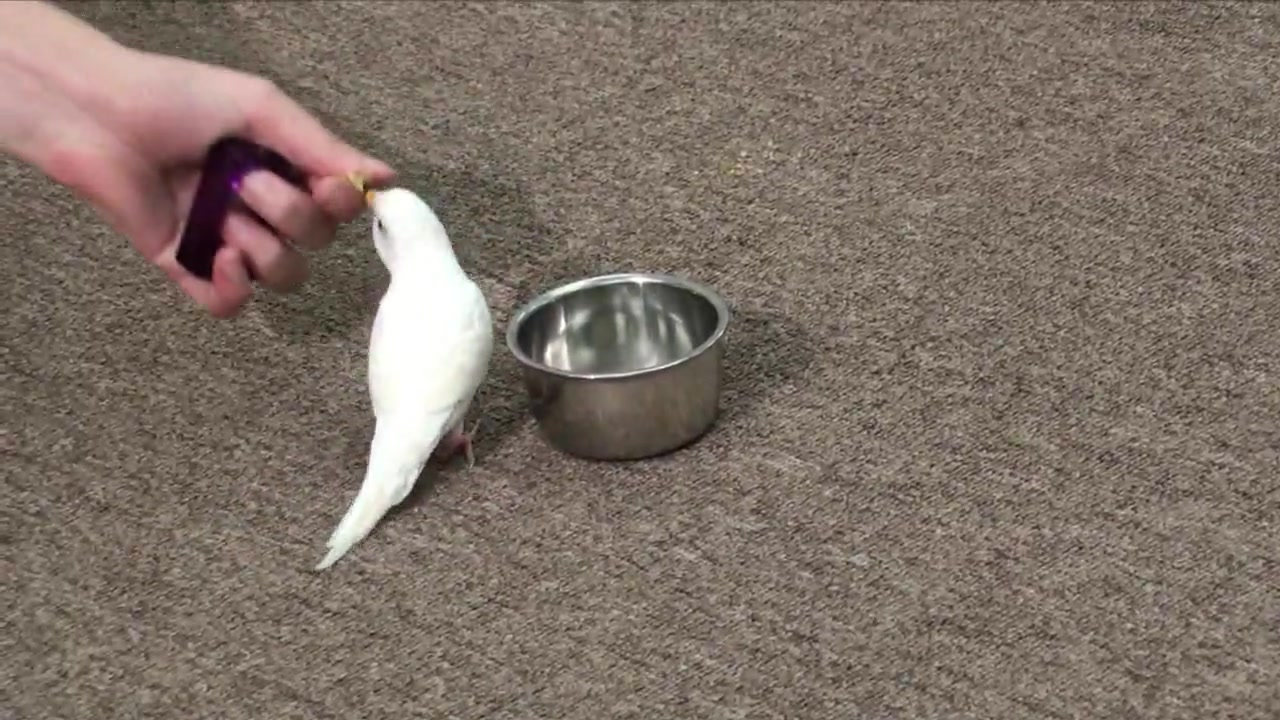bird: (316, 188, 497, 574)
